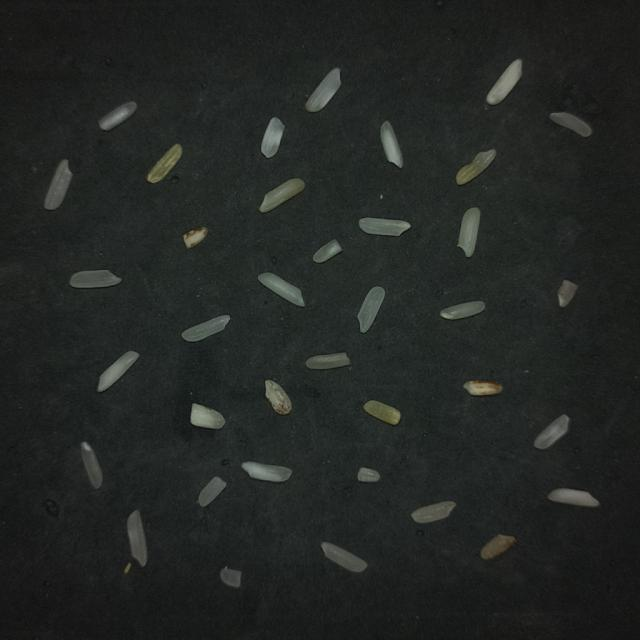broken: (98, 102, 135, 131), (260, 117, 284, 158), (411, 501, 455, 523), (198, 477, 225, 506), (312, 239, 341, 263), (557, 280, 577, 307), (220, 567, 240, 588), (356, 467, 379, 482)
chalky: (96, 351, 138, 392), (486, 59, 520, 104), (380, 121, 402, 168), (241, 462, 291, 482), (190, 404, 224, 429)
discolored: (259, 179, 304, 213), (455, 149, 495, 185), (146, 144, 181, 183), (363, 400, 400, 424)
red: (265, 380, 290, 414), (480, 535, 514, 559), (463, 381, 502, 396), (183, 227, 207, 248)
whole: (257, 272, 304, 306), (305, 68, 340, 112), (44, 160, 71, 210), (321, 542, 366, 572), (181, 315, 229, 341), (357, 287, 384, 333), (533, 415, 569, 449), (126, 510, 146, 566), (457, 208, 479, 257), (80, 442, 102, 489), (549, 112, 590, 137), (547, 488, 599, 507), (358, 218, 410, 236), (69, 270, 120, 288), (305, 352, 351, 370), (440, 301, 484, 319)
